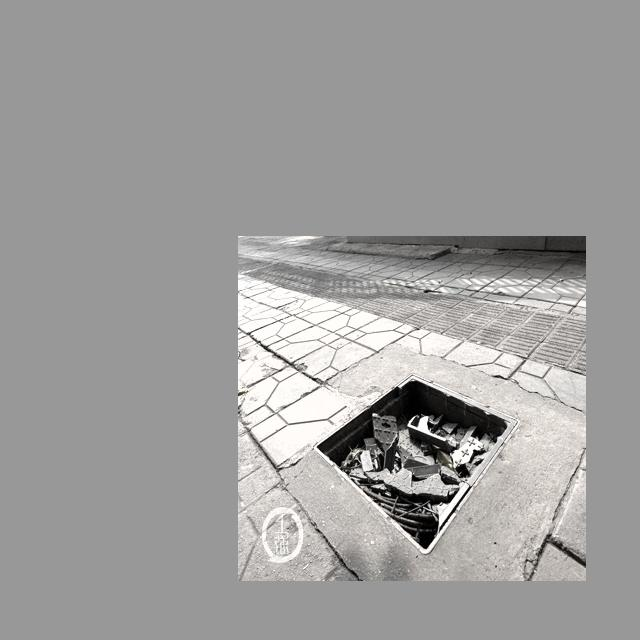broke: (261, 348, 579, 576)
